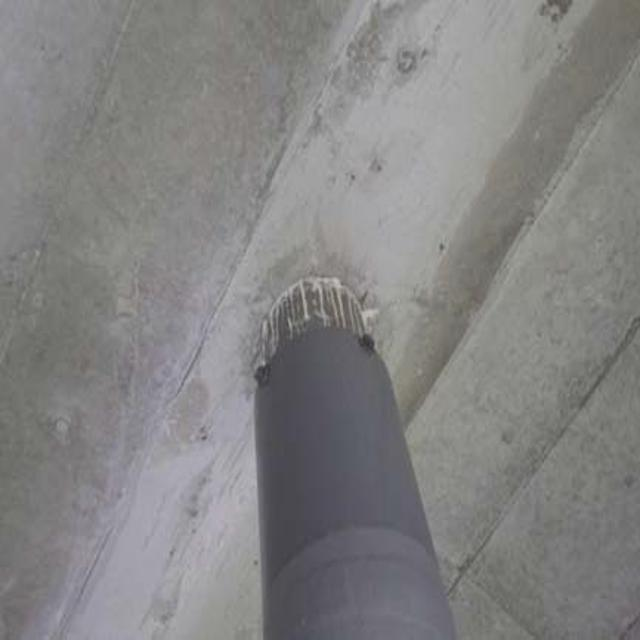freelime: (230, 233, 409, 346)
